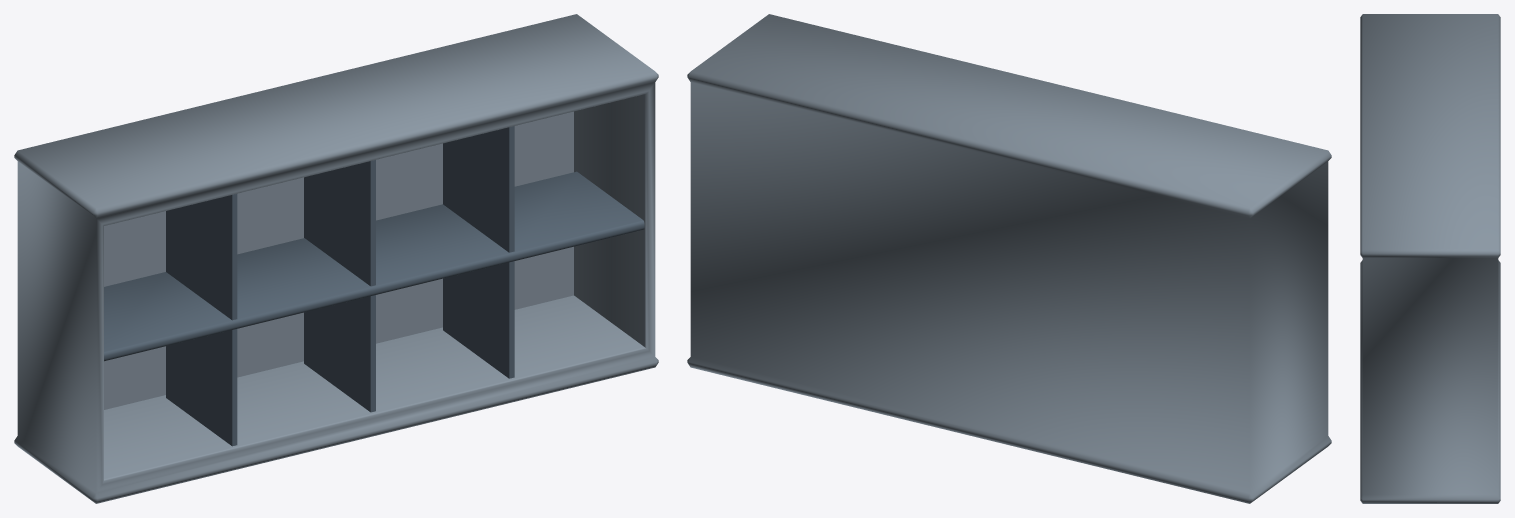
File: Wall-Shelf-2.fbx
3 views of the same model, side by side, from view 1: azimuth 30°, elevation 25°; view 2: azimuth 150°, elevation 25°; view 3: azimuth 270°, elevation 25° (orthographic). The views are drawn at different scales.
Visible parts, largest first — view 1: Wall-Shelf-2; view 2: Wall-Shelf-2; view 3: Wall-Shelf-2.
Part boxes in pixels (x1,y1,x2,y2): Wall-Shelf-2: [14, 14, 658, 503]; Wall-Shelf-2: [687, 14, 1331, 503]; Wall-Shelf-2: [1360, 14, 1500, 503].
Size of the model in its own units: 2 by 1 by 0.5.
